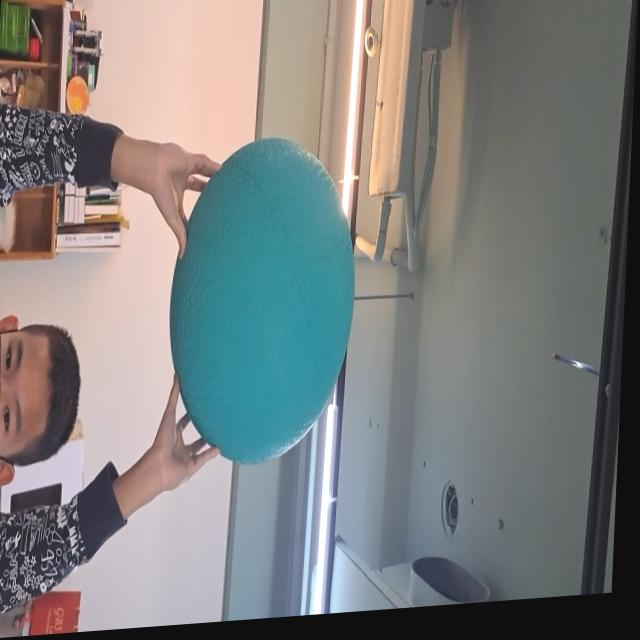ALGAE: (162, 131, 362, 470)
